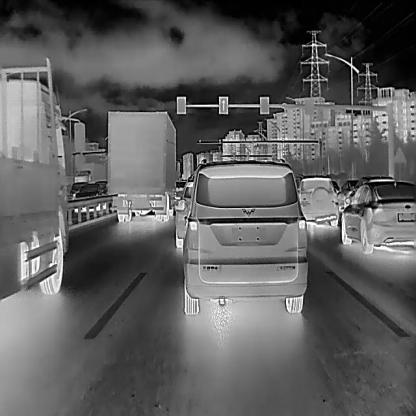car: (181, 158, 307, 314), (340, 176, 415, 254), (295, 175, 339, 226), (173, 178, 199, 249), (338, 178, 359, 207), (73, 181, 103, 201)
truck: (0, 65, 84, 305), (106, 108, 177, 222), (73, 160, 104, 187)
